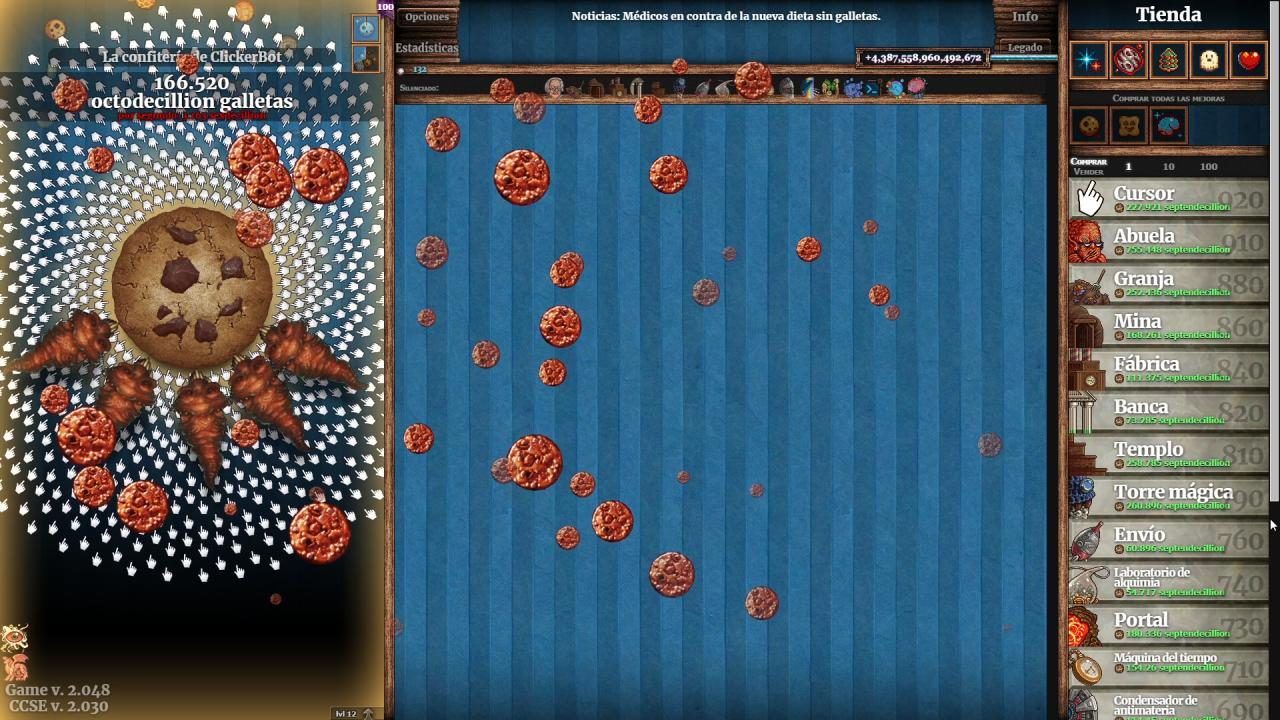RedCookie: (289, 502, 353, 566), (57, 407, 117, 467), (291, 146, 351, 205), (493, 148, 552, 208), (506, 434, 564, 492), (115, 480, 171, 534), (227, 133, 281, 184), (245, 161, 293, 209), (649, 551, 696, 599), (539, 304, 583, 350), (591, 499, 635, 543), (72, 465, 116, 508), (235, 209, 275, 250), (734, 60, 774, 101), (649, 154, 689, 195), (424, 116, 462, 154), (744, 585, 781, 622), (415, 234, 449, 271), (54, 76, 88, 112), (513, 91, 547, 125), (403, 422, 435, 455), (691, 278, 721, 309), (40, 384, 70, 414), (231, 418, 261, 448), (634, 96, 664, 126), (471, 340, 501, 370), (550, 260, 580, 289), (794, 235, 823, 264), (539, 358, 567, 388), (87, 145, 114, 174), (489, 76, 516, 104), (556, 251, 586, 276), (978, 431, 1004, 459), (490, 458, 516, 486), (570, 471, 596, 498), (555, 524, 581, 550), (869, 284, 891, 307), (178, 54, 200, 76), (416, 307, 438, 328), (863, 219, 880, 236), (672, 58, 688, 76), (722, 246, 738, 262), (885, 304, 900, 321), (750, 482, 764, 499), (678, 469, 691, 485)
